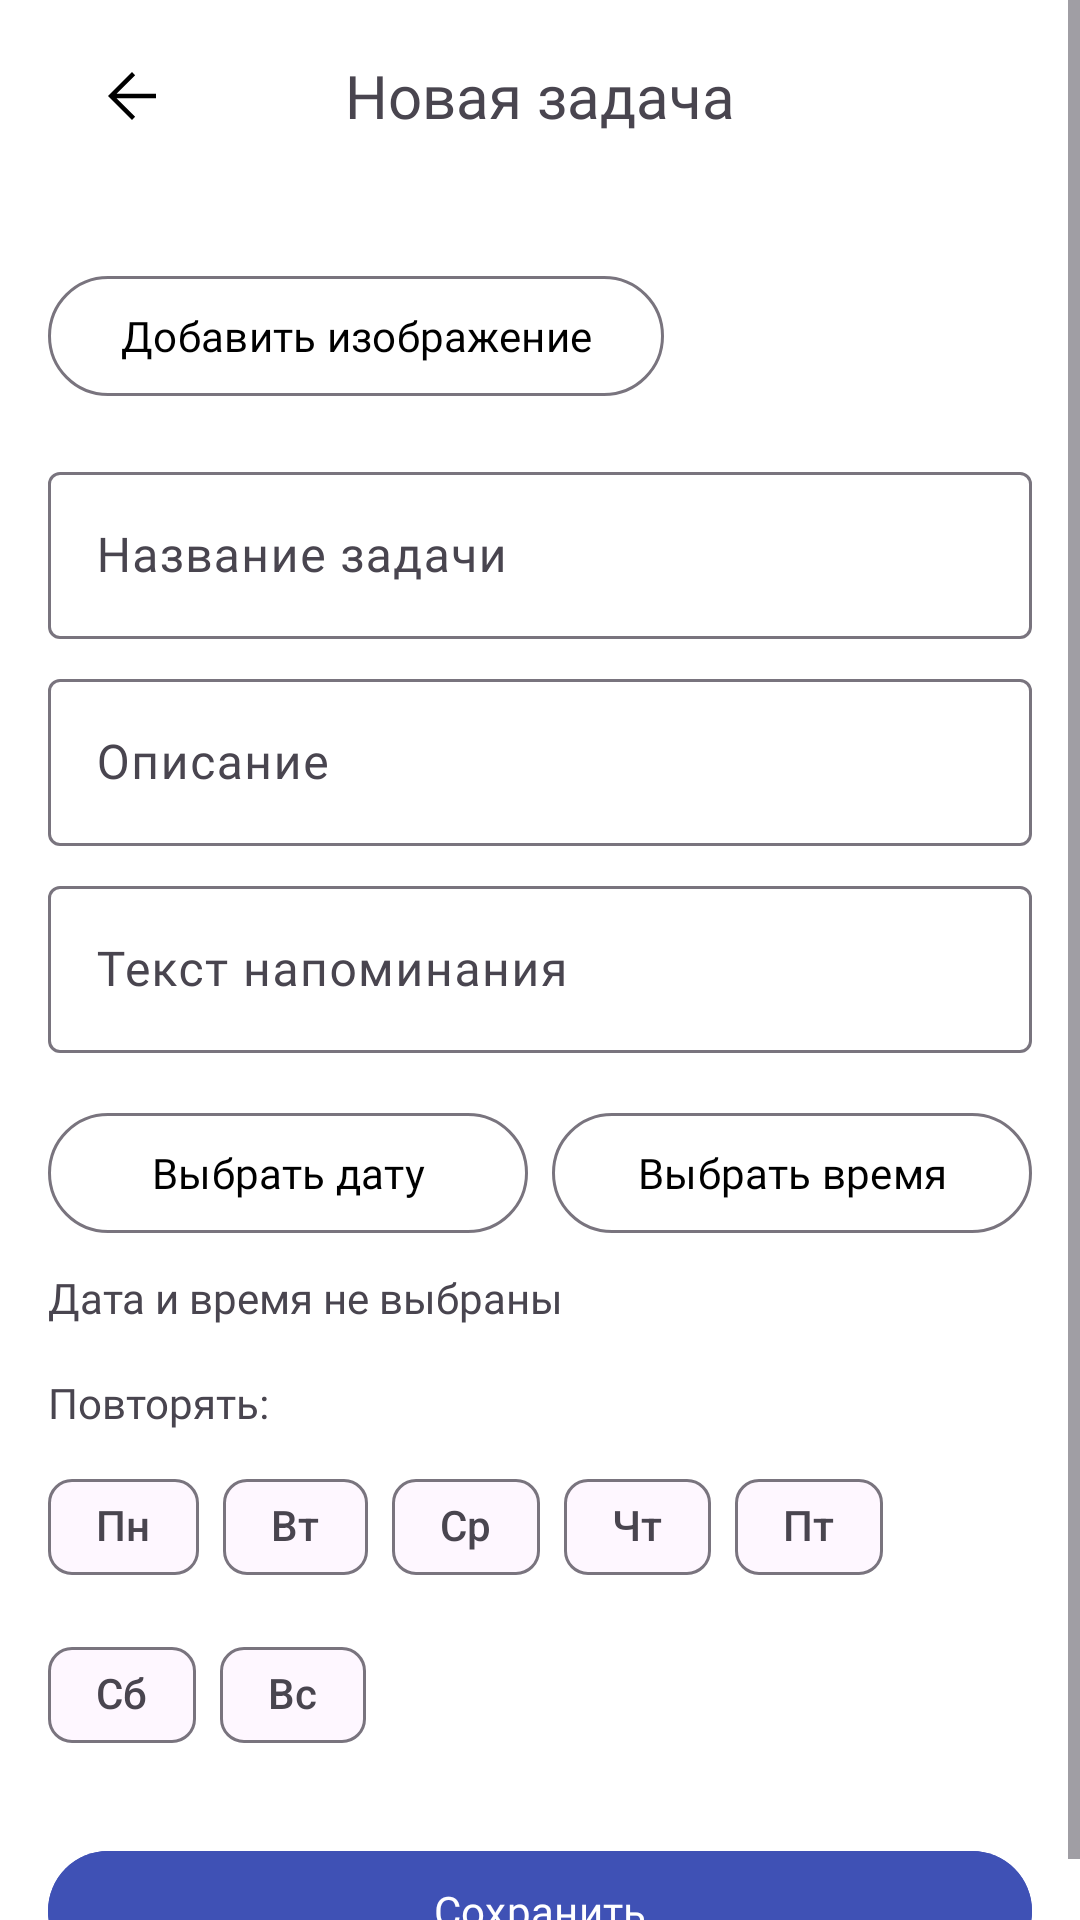

Icons on this 1080*1920 Android screen, each with the point to tap as (x,y):
back: (132,96)
